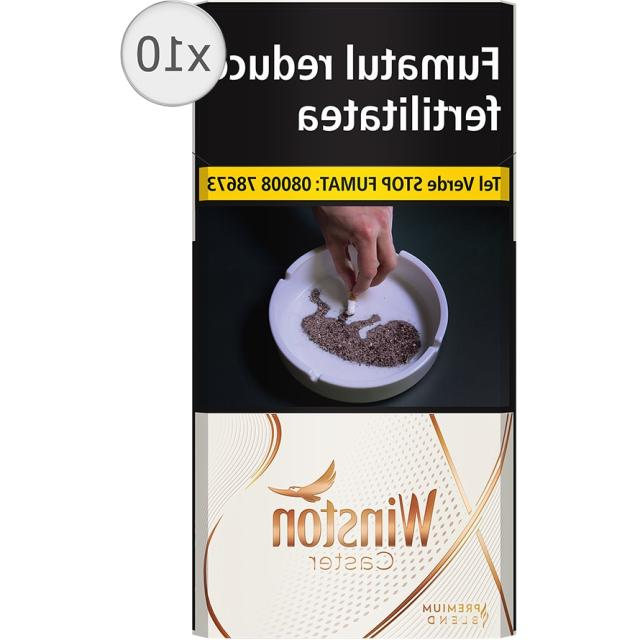winston: (188, 0, 518, 640)
